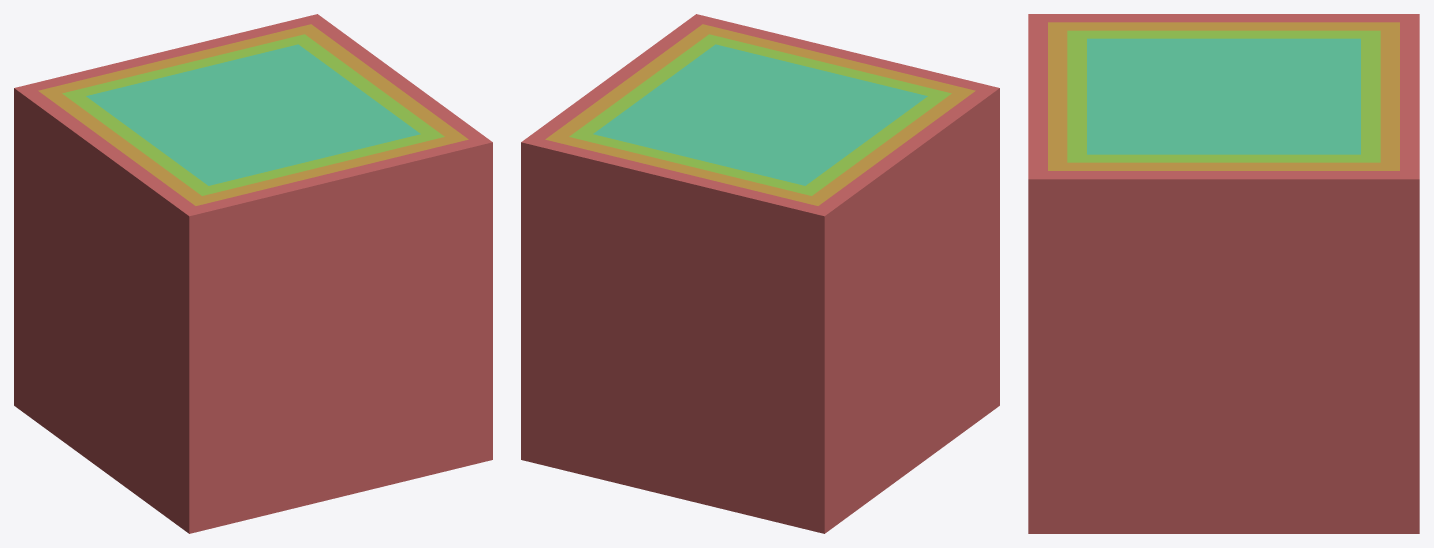
File: Compression + Tension Cube.dae
The picture shows the model from 3 angles, left to right: view 1: azimuth 30°, elevation 25°; view 2: azimuth 150°, elevation 25°; view 3: azimuth 270°, elevation 25°; orthographic projection. The views are drawn at different scales.
Parts seen in each view (by area): view 1: compression___tension_cube; view 2: compression___tension_cube; view 3: compression___tension_cube.
Part boxes in pixels (x1,y1,x2,y2): compression___tension_cube: (14, 14, 492, 533); compression___tension_cube: (521, 14, 999, 533); compression___tension_cube: (1028, 14, 1419, 533).
Size of the model in its own units: 100 by 100 by 100.
